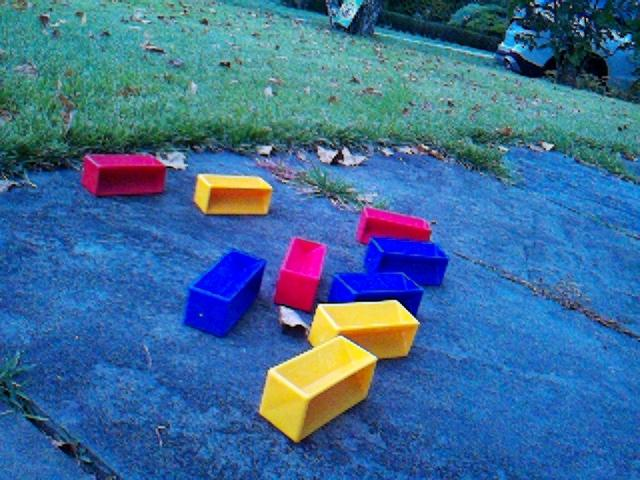blue: (182, 248, 268, 338), (328, 269, 425, 317), (363, 235, 450, 287)
red: (273, 235, 328, 313), (81, 151, 168, 198), (355, 205, 434, 245)
yellow: (258, 334, 379, 444), (308, 299, 421, 360), (194, 172, 274, 216)
